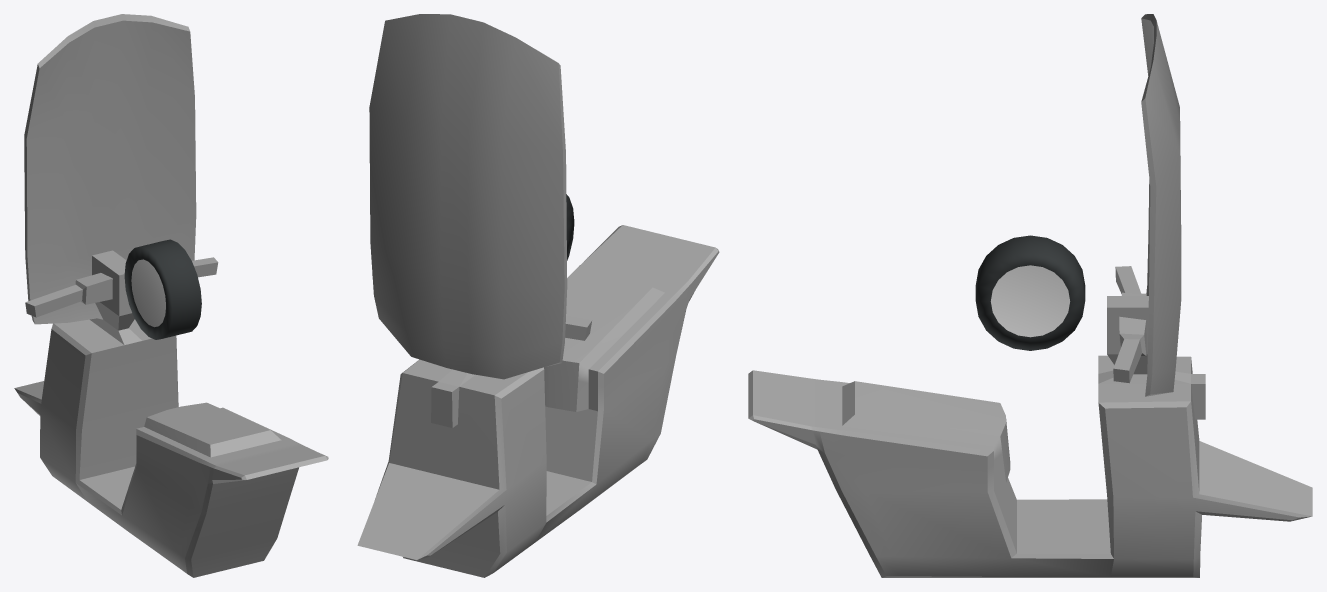
Rendered from scooter 1.fbx.
The picture shows the model from 3 angles, left to right: view 1: azimuth 30°, elevation 25°; view 2: azimuth 150°, elevation 25°; view 3: azimuth 270°, elevation 25°; orthographic projection. The views are drawn at different scales.
Visible parts, largest first — view 1: scooter_1, scooter_1_wheel; view 2: scooter_1; view 3: scooter_1, scooter_1_wheel.
Boxes of the visible parts, bbox=[...] form: scooter_1: bbox=[14, 14, 328, 577]; scooter_1_wheel: bbox=[124, 239, 201, 339]; scooter_1: bbox=[357, 14, 719, 577]; scooter_1: bbox=[748, 14, 1312, 577]; scooter_1_wheel: bbox=[975, 235, 1085, 350].
Size of the model in its own units: 55.02 by 130 by 126.
Materials: 2 (1 with a texture image).
